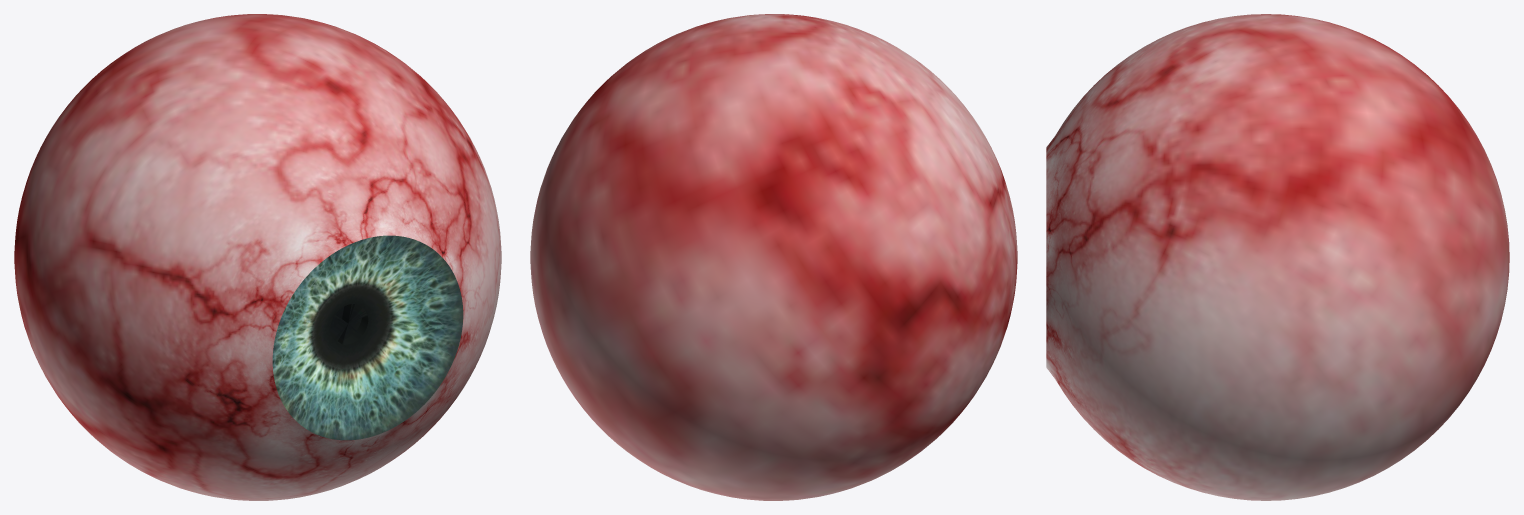
3 views of the same model, side by side, from view 1: azimuth 30°, elevation 25°; view 2: azimuth 150°, elevation 25°; view 3: azimuth 270°, elevation 25° (orthographic).
Parts seen in each view (by area): view 1: Eye_0, Iris_1; view 2: Eye_0; view 3: Eye_0.
Part boxes in pixels (left/top/right/bottom): Eye_0: left=14, top=14, right=501, bottom=500; Iris_1: left=272, top=235, right=463, bottom=440; Eye_0: left=530, top=14, right=1017, bottom=500; Eye_0: left=1046, top=14, right=1509, bottom=500.
Bounding box in the file's own units: 1.99 × 1.99 × 1.89.
2 materials, 2 textured.
